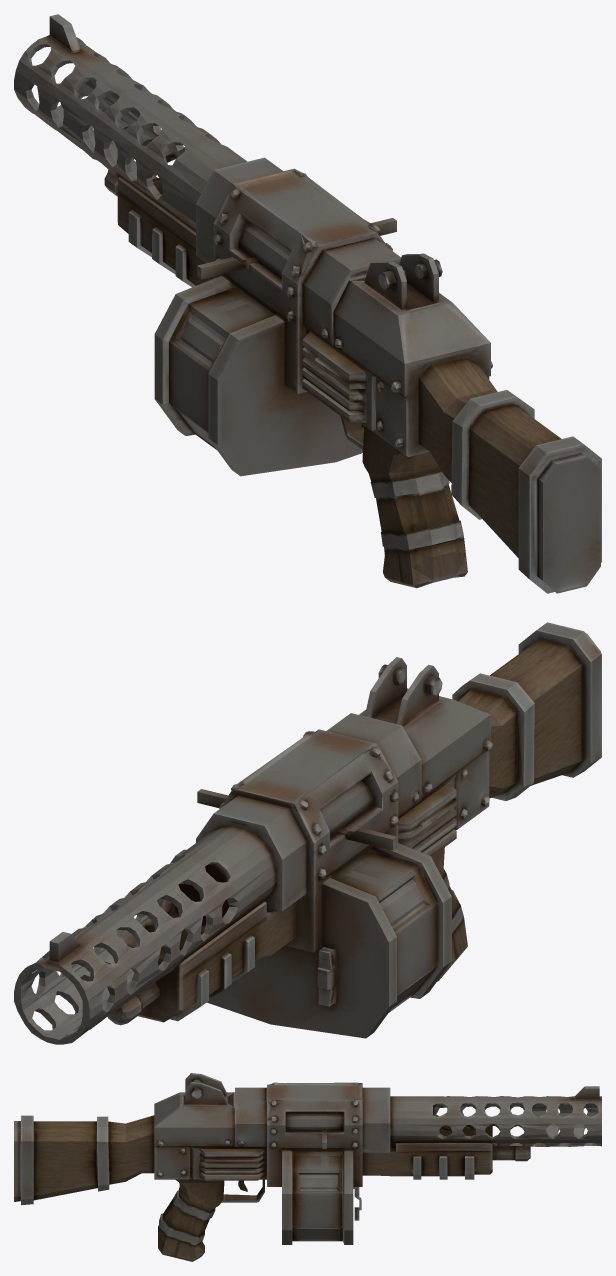
Rendered from automatic_rifle.glb.
The picture shows the model from 3 angles, top to bottom: view 1: azimuth 30°, elevation 25°; view 2: azimuth 150°, elevation 25°; view 3: azimuth 270°, elevation 25°; orthographic projection. The views are drawn at different scales.
Parts seen in each view (by area): view 1: tripo_node_d59342c6-d396-4c21-856b-b619db55ccf0; view 2: tripo_node_d59342c6-d396-4c21-856b-b619db55ccf0; view 3: tripo_node_d59342c6-d396-4c21-856b-b619db55ccf0.
Part boxes in pixels (x1,y1,x2,y2): tripo_node_d59342c6-d396-4c21-856b-b619db55ccf0: [14, 14, 601, 593]; tripo_node_d59342c6-d396-4c21-856b-b619db55ccf0: [14, 622, 601, 1044]; tripo_node_d59342c6-d396-4c21-856b-b619db55ccf0: [14, 1073, 601, 1261].
Bounding box in the file's own units: 0.5205 × 0.6693 × 2.
Materials: 1 (1 with a texture image).
